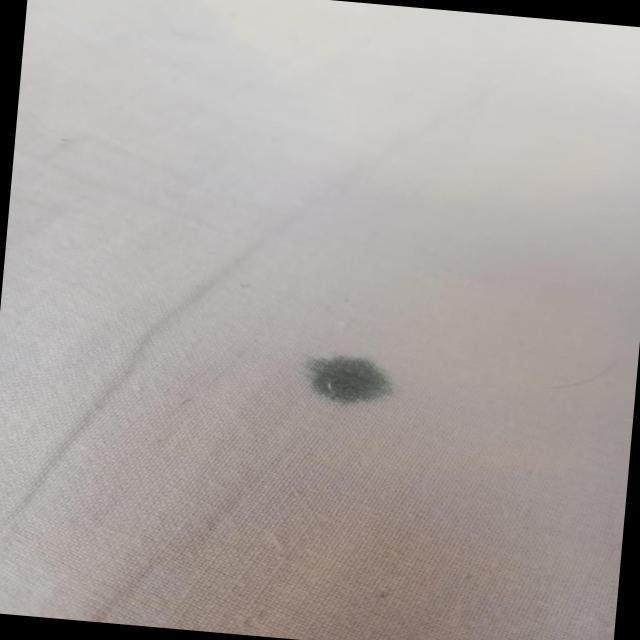stain: (290, 347, 408, 410)
